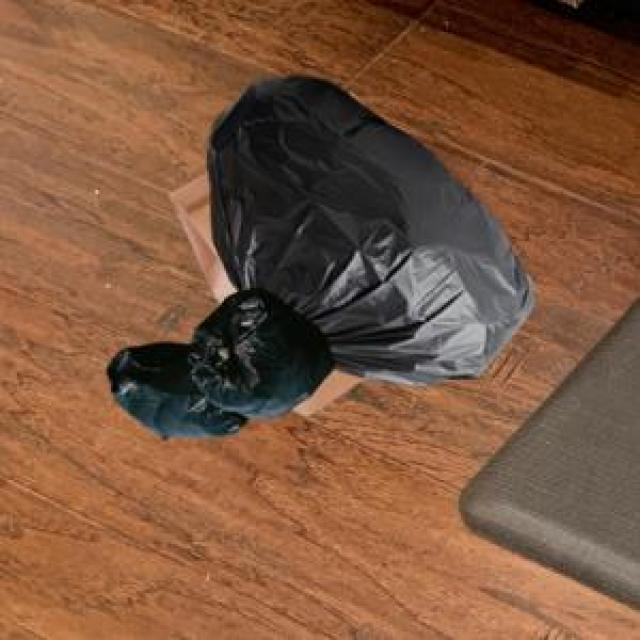miscellaneous trash: (203, 73, 529, 382), (102, 284, 331, 435)
paper: (166, 169, 361, 412)
